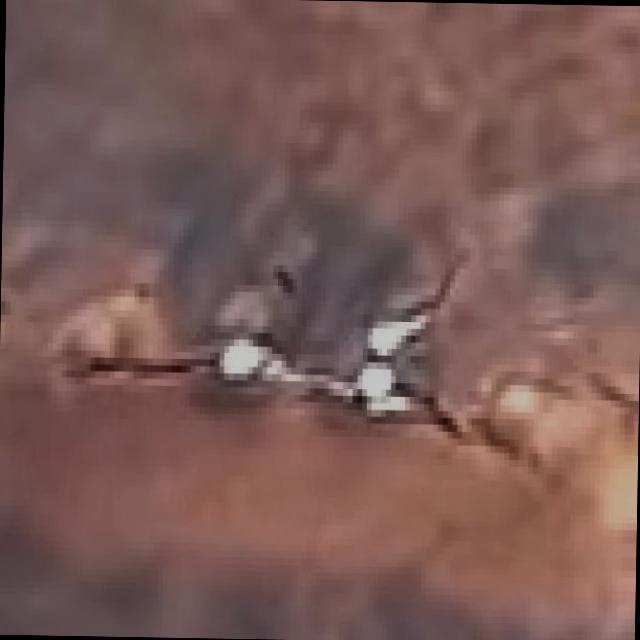crack: (70, 309, 273, 435)
